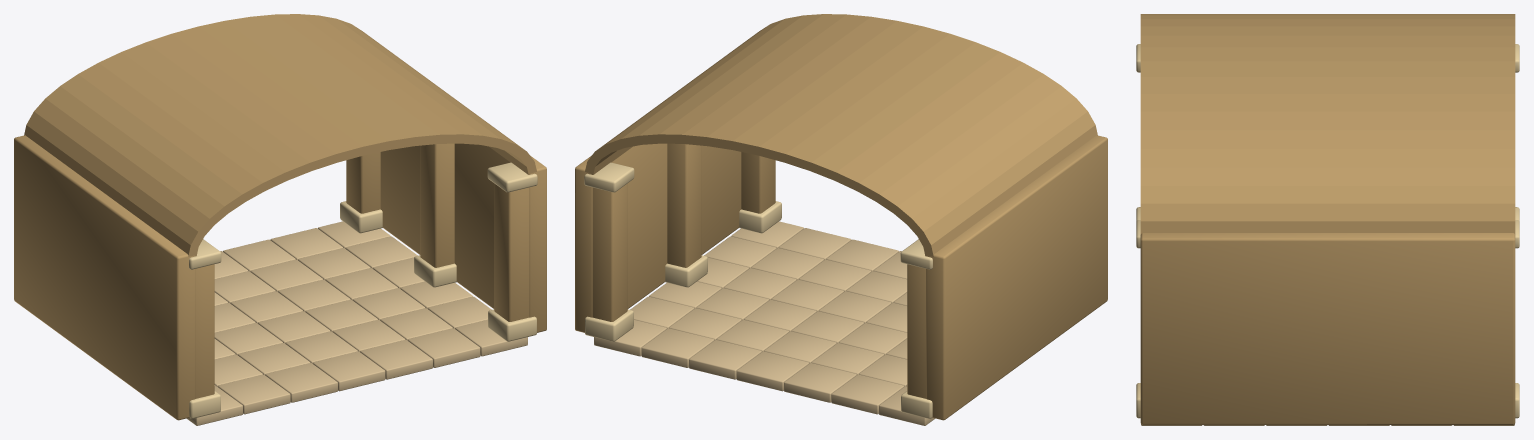
Rendered from tunnel_module.glb.
3 renders of one model, left to right at view 1: azimuth 30°, elevation 25°; view 2: azimuth 150°, elevation 25°; view 3: azimuth 270°, elevation 25°, orthographic. The views are drawn at different scales.
Visible parts, largest first — view 1: tunnel_module_Mesh; view 2: tunnel_module_Mesh; view 3: tunnel_module_Mesh.
Part boxes in pixels (x1,y1,x2,y2): tunnel_module_Mesh: [14, 14, 546, 425]; tunnel_module_Mesh: [575, 14, 1107, 425]; tunnel_module_Mesh: [1136, 14, 1519, 425].
Bounding box in the file's own units: 7.8 × 4.82 × 6.14.
